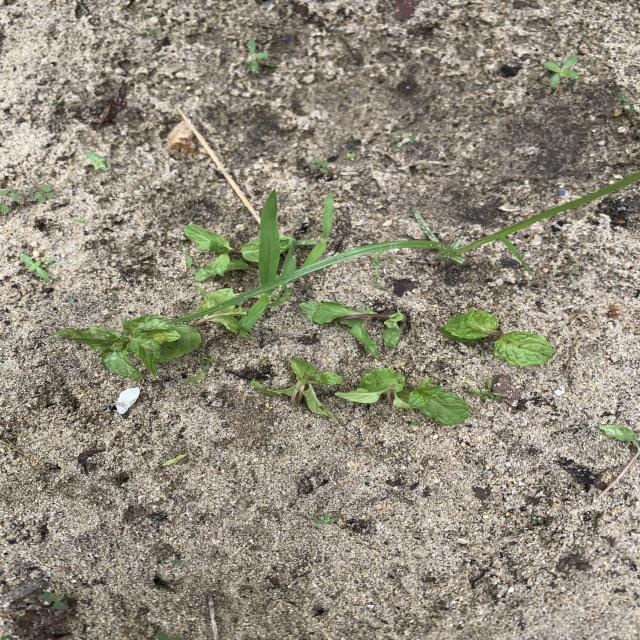crop: (55, 316, 181, 379), (335, 368, 469, 424), (440, 309, 553, 367), (300, 301, 405, 359), (251, 357, 343, 422), (159, 306, 246, 362), (184, 223, 260, 280), (599, 424, 640, 496), (195, 283, 234, 310), (279, 235, 293, 254)
weed: (172, 173, 640, 323), (296, 193, 334, 268), (239, 285, 290, 332), (258, 190, 280, 286), (543, 55, 579, 88), (246, 38, 276, 73), (19, 253, 54, 282), (468, 377, 507, 402), (371, 252, 388, 290), (280, 238, 296, 276), (191, 357, 213, 383), (0, 186, 20, 214), (84, 150, 108, 172), (30, 184, 54, 203), (393, 131, 418, 149), (43, 591, 68, 609), (180, 241, 194, 270), (309, 157, 329, 174), (313, 513, 340, 525), (163, 454, 185, 466), (169, 556, 183, 565), (346, 152, 357, 162)
